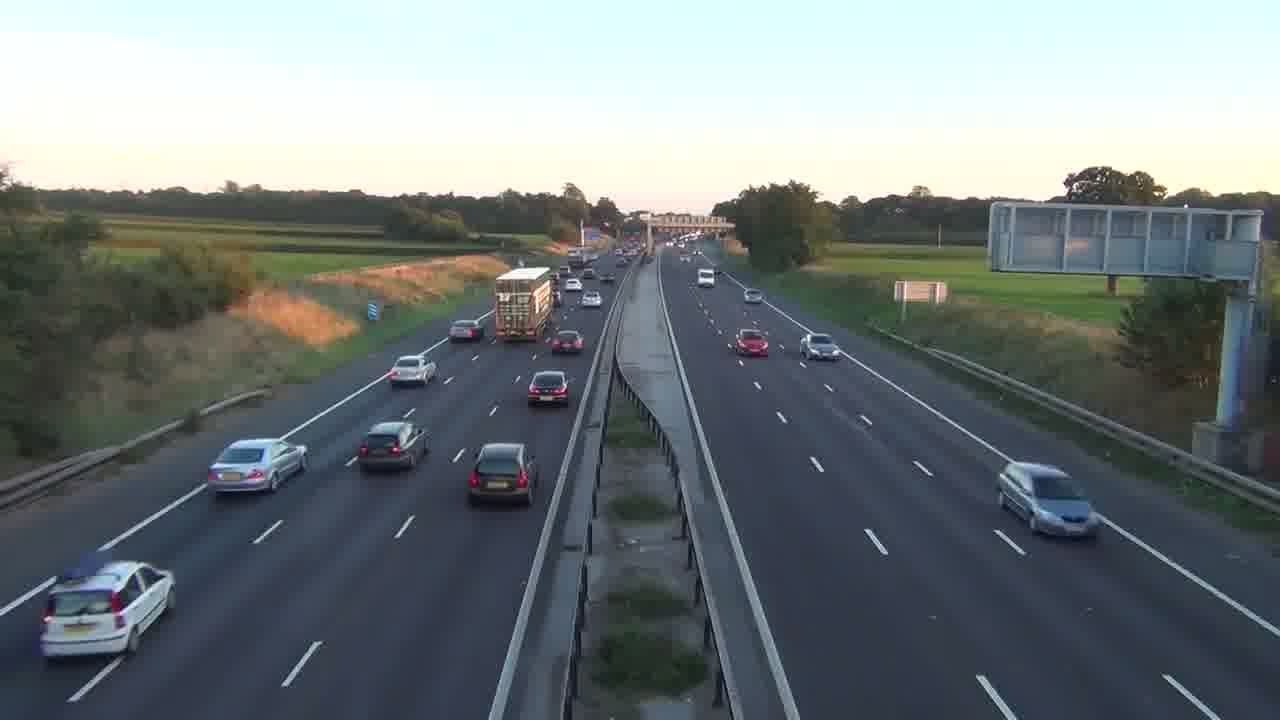car: (39, 559, 176, 661), (996, 460, 1098, 538), (207, 437, 308, 495), (465, 441, 542, 507), (357, 420, 431, 472), (387, 353, 437, 388), (527, 369, 570, 407), (734, 324, 769, 358), (800, 333, 841, 361), (551, 329, 585, 354)
truck: (494, 266, 556, 341)
